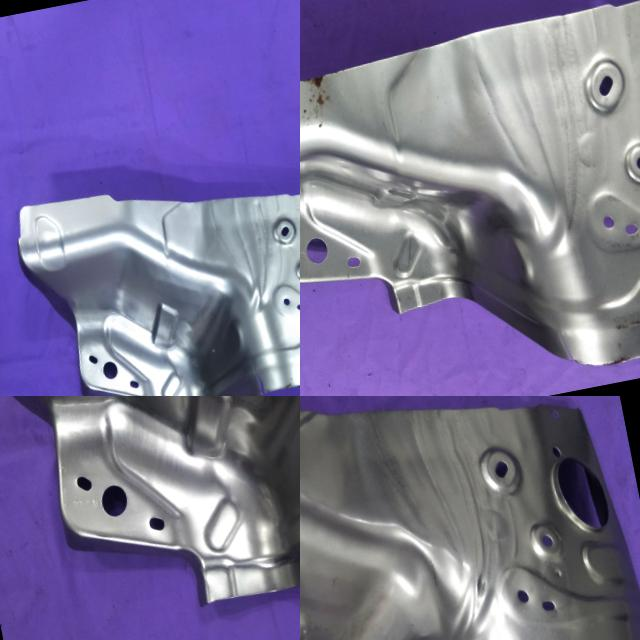Defect: (552, 322, 576, 366), (246, 355, 269, 396)
rust: (300, 54, 370, 138), (571, 299, 640, 372), (278, 371, 300, 393)
